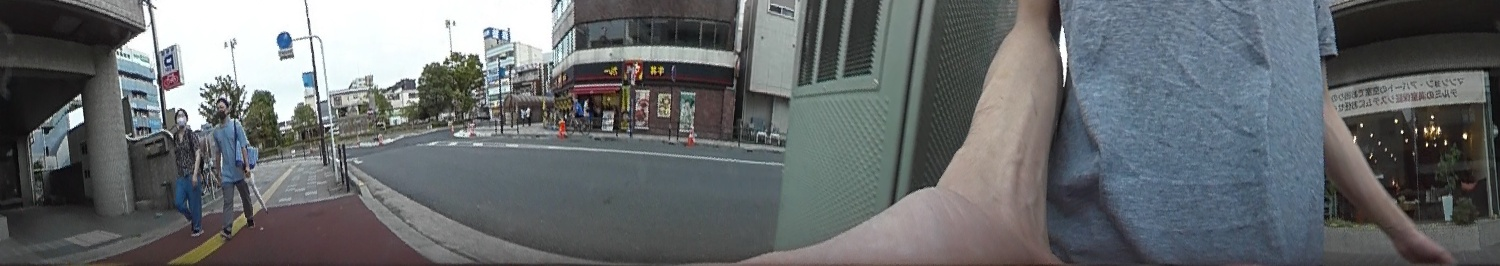difficult_person: (573, 95, 583, 129), (582, 96, 590, 129)
person: (206, 91, 257, 239), (164, 106, 210, 237)
